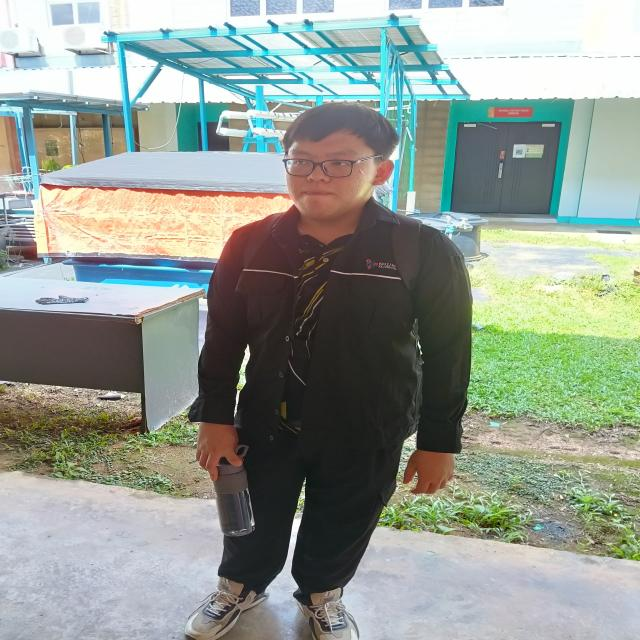person_with_labcoat: (185, 103, 472, 640)
